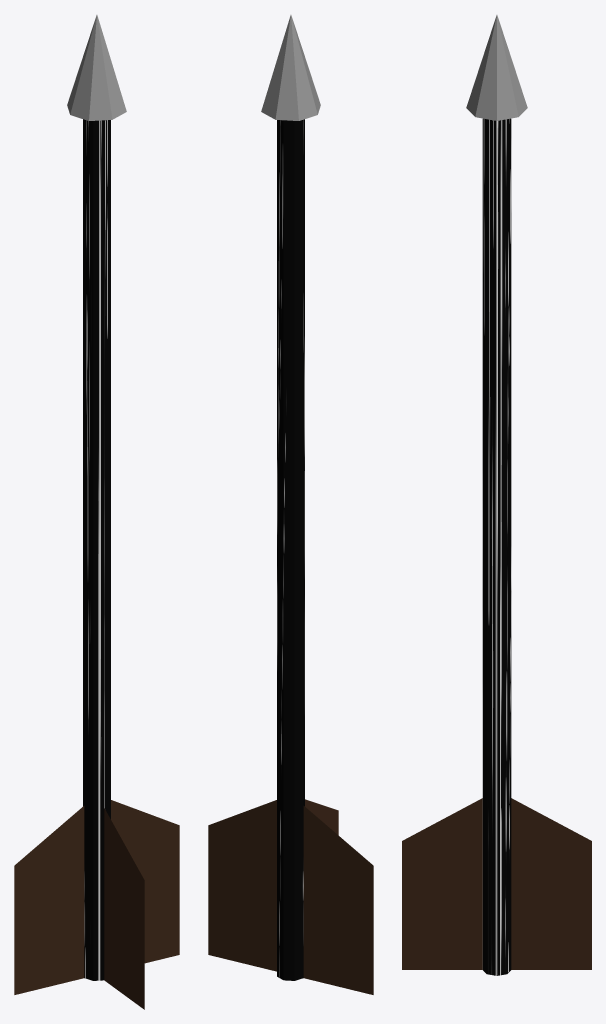
Rendered from Arrow.fbx.
3 renders of one model, left to right at view 1: azimuth 30°, elevation 25°; view 2: azimuth 150°, elevation 25°; view 3: azimuth 270°, elevation 25°, orthographic.
Parts seen in each view (by area): view 1: Arrow; view 2: Arrow; view 3: Arrow.
Boxes of the visible parts, box(x1,y1,x2,y2) form: Arrow: box(14, 15, 179, 1009); Arrow: box(208, 15, 373, 994); Arrow: box(402, 15, 591, 975).
Bounding box in the file's own units: 40 × 222 × 40.
